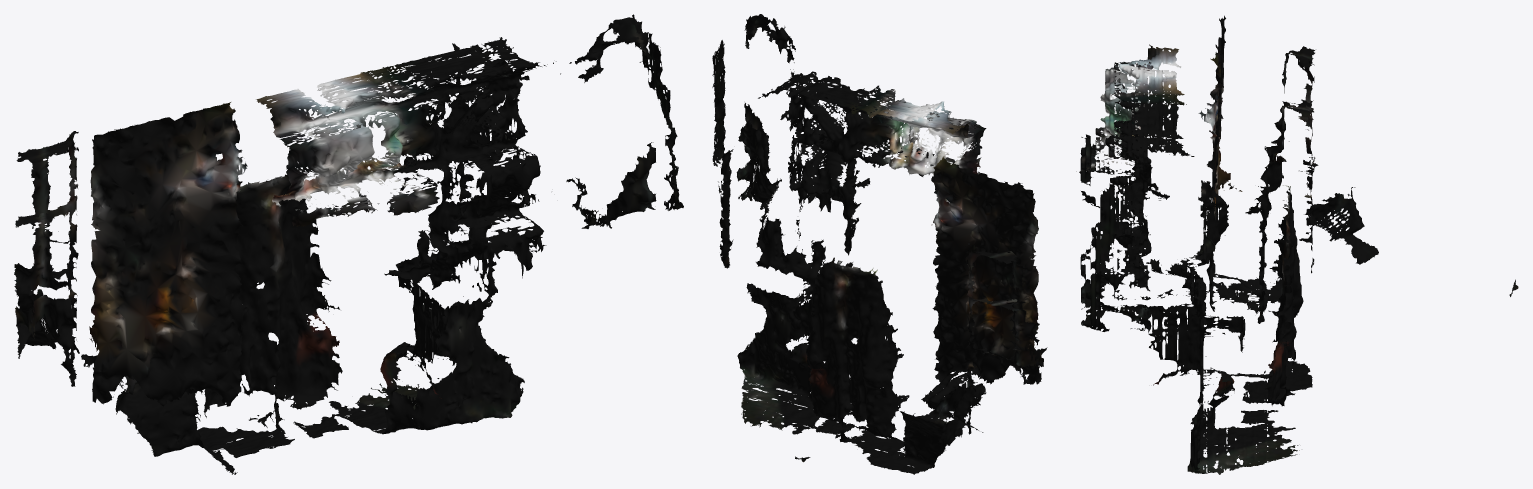
File: color_model_f001_20251226_162349.obj
3 renders of one model, left to right at view 1: azimuth 30°, elevation 25°; view 2: azimuth 150°, elevation 25°; view 3: azimuth 270°, elevation 25°, orthographic. The views are drawn at different scales.
Size of the model in its own units: 2.9 by 2.21 by 2.44.
